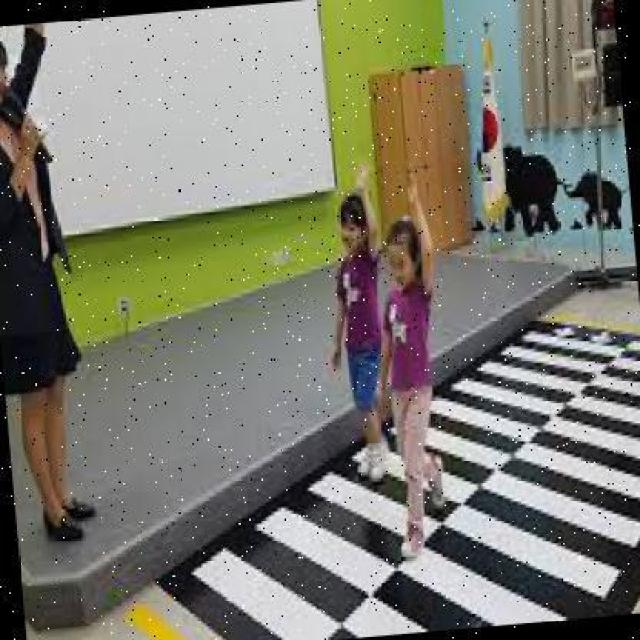Person: (0, 21, 95, 544), (358, 167, 458, 556), (312, 158, 398, 482)
